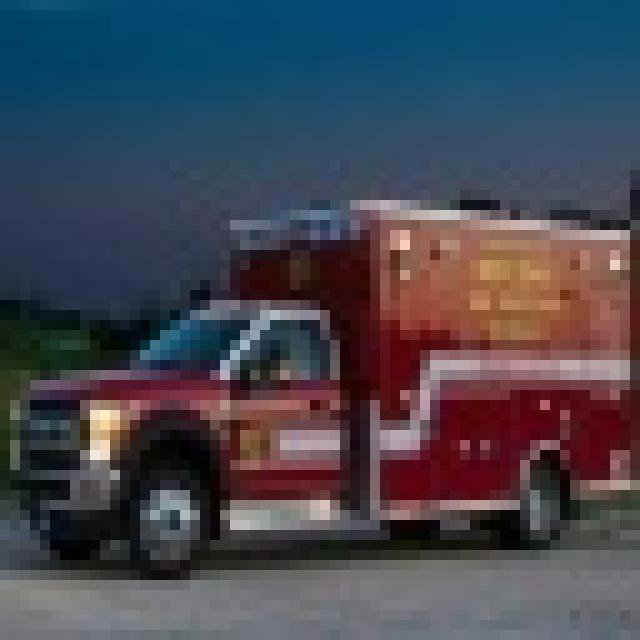Ambulance: (0, 190, 630, 570)
